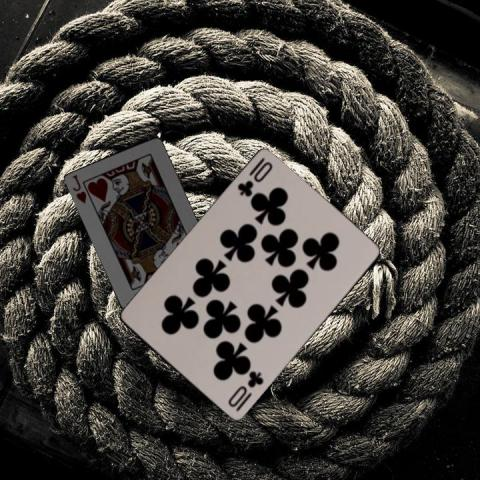10c: (225, 368, 265, 413), (234, 154, 274, 198)
Jh: (69, 171, 87, 206)
